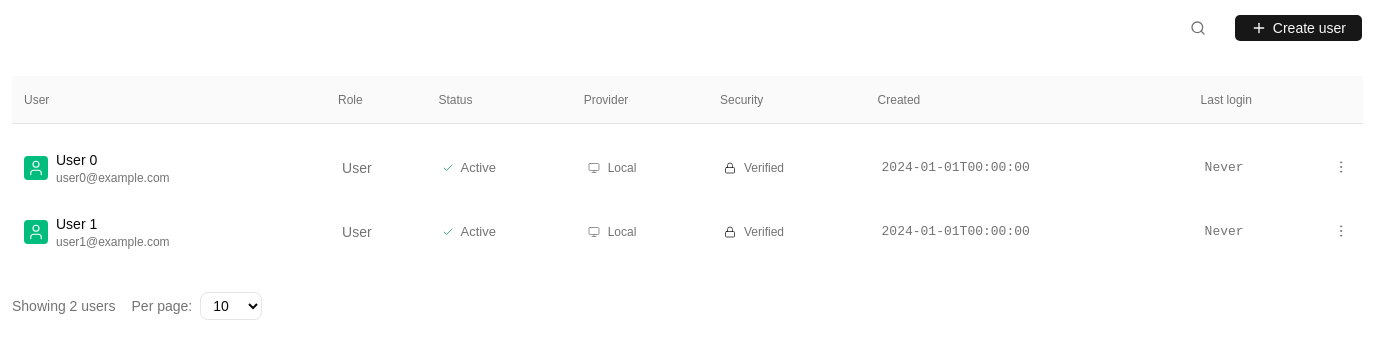
Test: Users › filters the loaded users with the search box
The image size is (1378, 337).
Expected: the text "user0@example.com" is shown, [56,170,170,186]
Expected: the text "user1@example.com" is shown, [56,234,170,250]
Type "user0" into the search field named "Search Users" at (1272, 28), box [1182,12,1363,44]
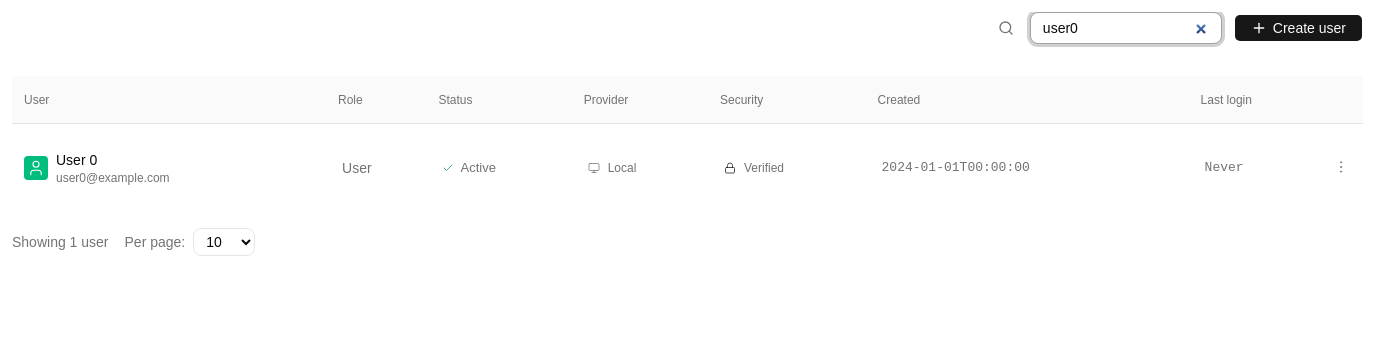
Expected: the text "user0@example.com" is shown, [56,170,170,186]
Expected: the text "user1@example.com" is gone
Replace the text in the search field named "Search Users" with "zzz-none" at (1126, 28), box [1030,12,1222,44]
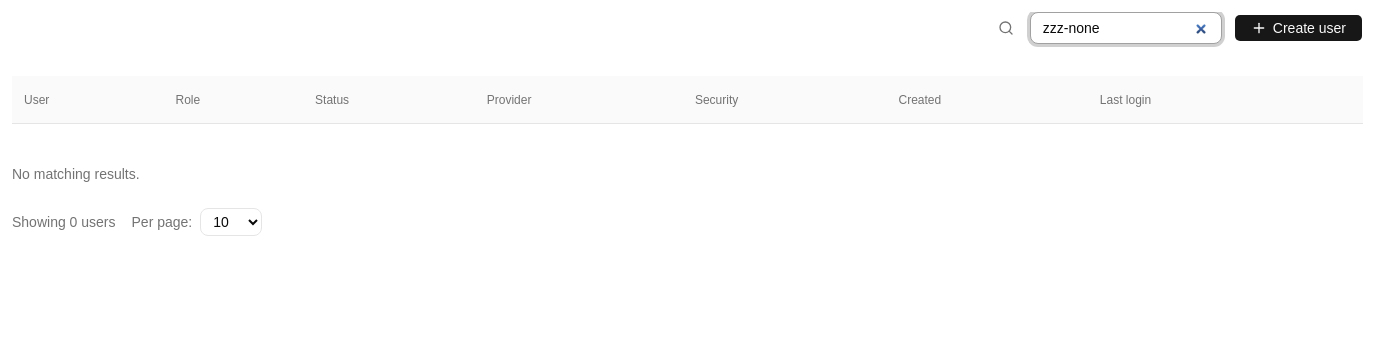
Expected: the text "No matching results." is shown, [12,166,140,182]
